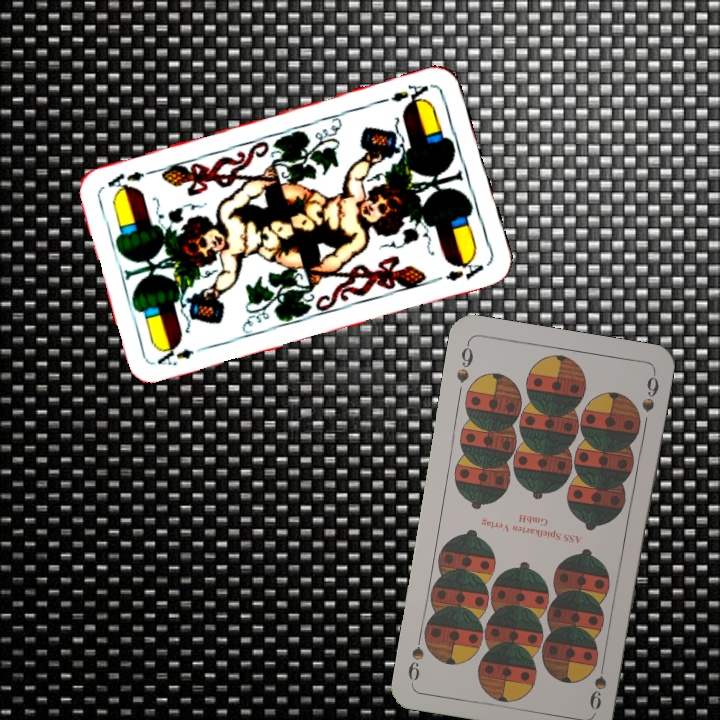EA: (387, 80, 436, 109), (153, 340, 197, 369)
S9: (585, 654, 609, 713), (452, 338, 476, 385)
